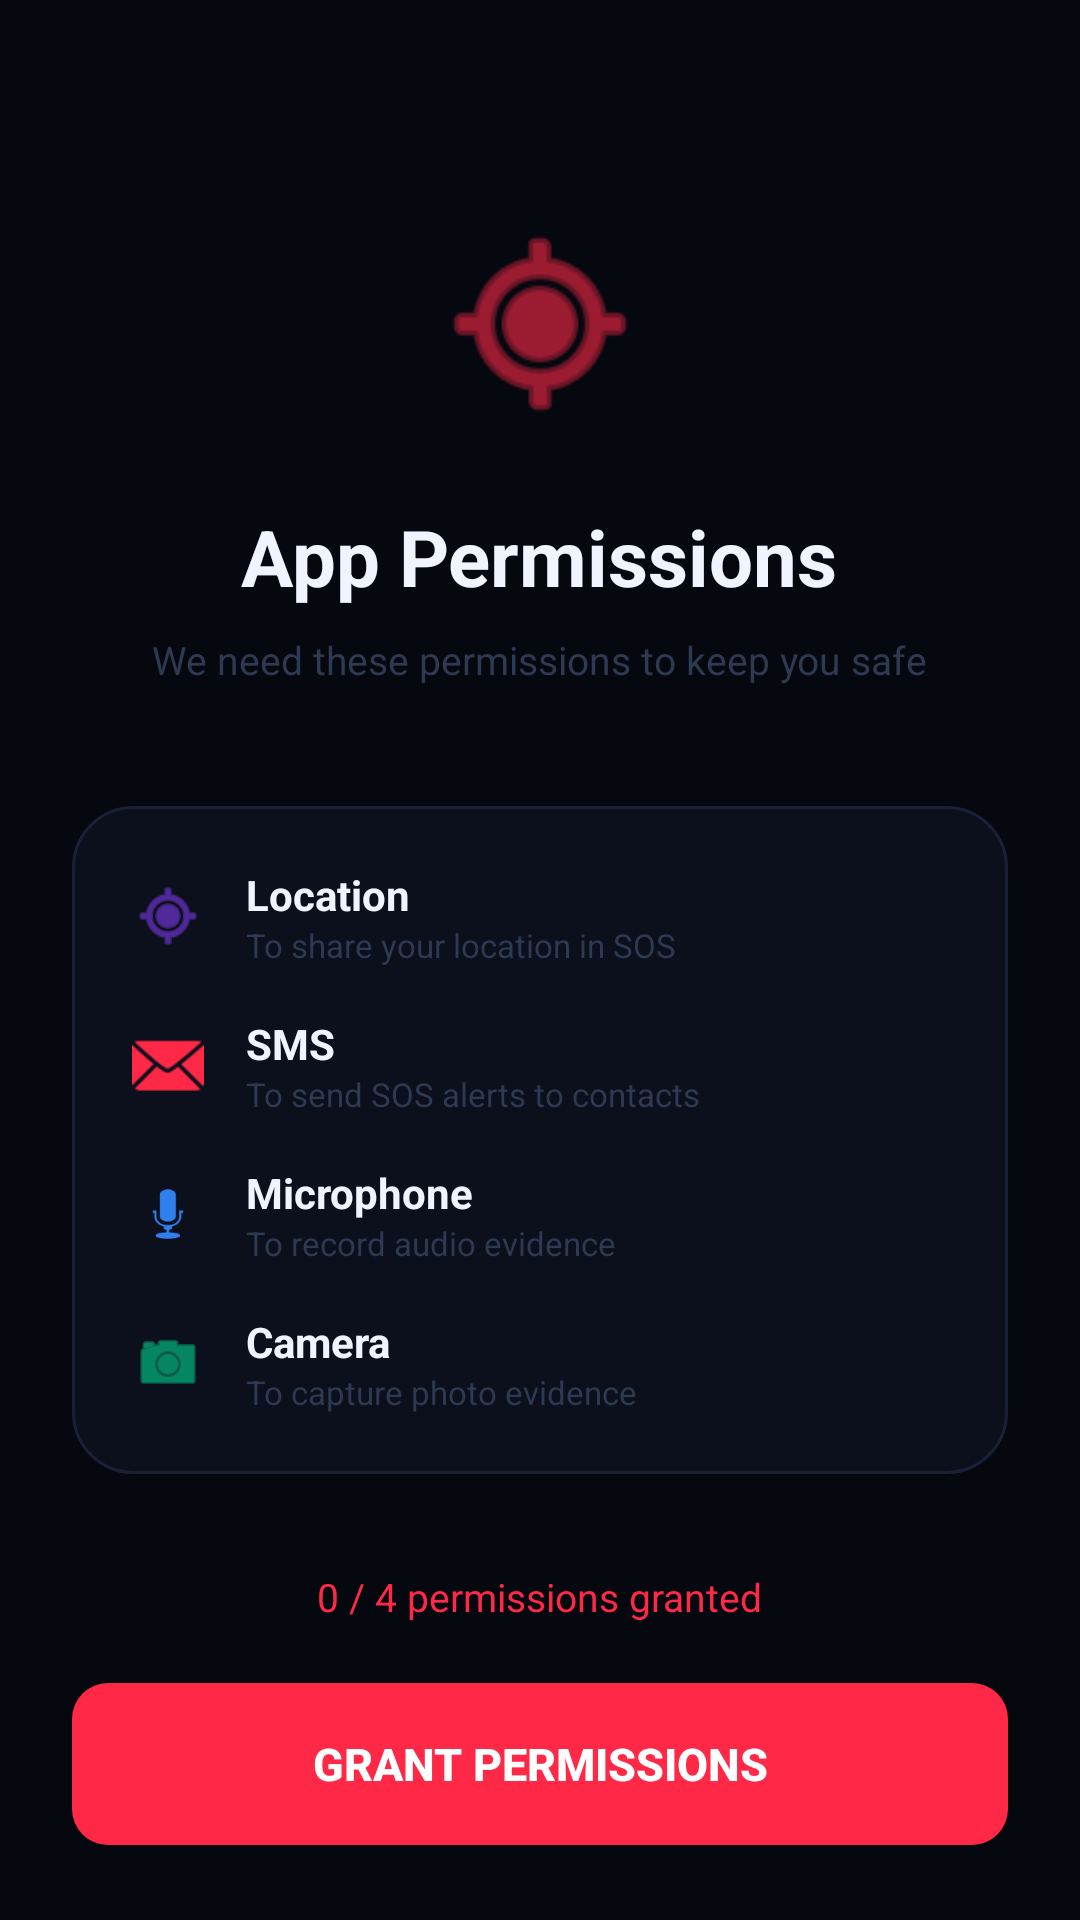

Screen size 1080×1920. Icon name, then its box in pixels as (x1, y1, x2, y2):
email: (132, 1040, 204, 1091)
speak now: (152, 1189, 184, 1239)
